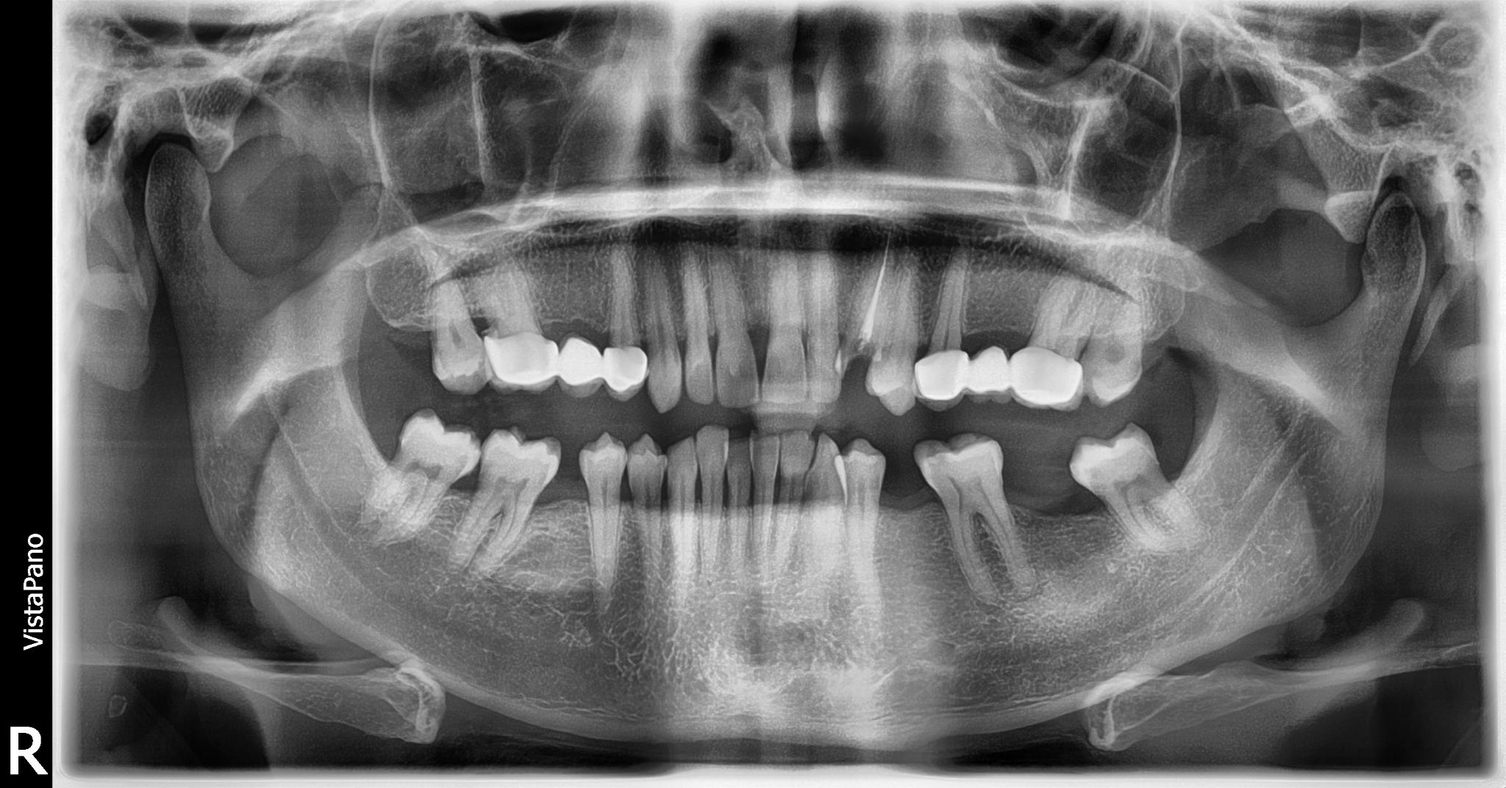Premolars: (459, 224, 1429, 788), (528, 241, 1506, 780), (400, 198, 1265, 577), (289, 221, 827, 638)
